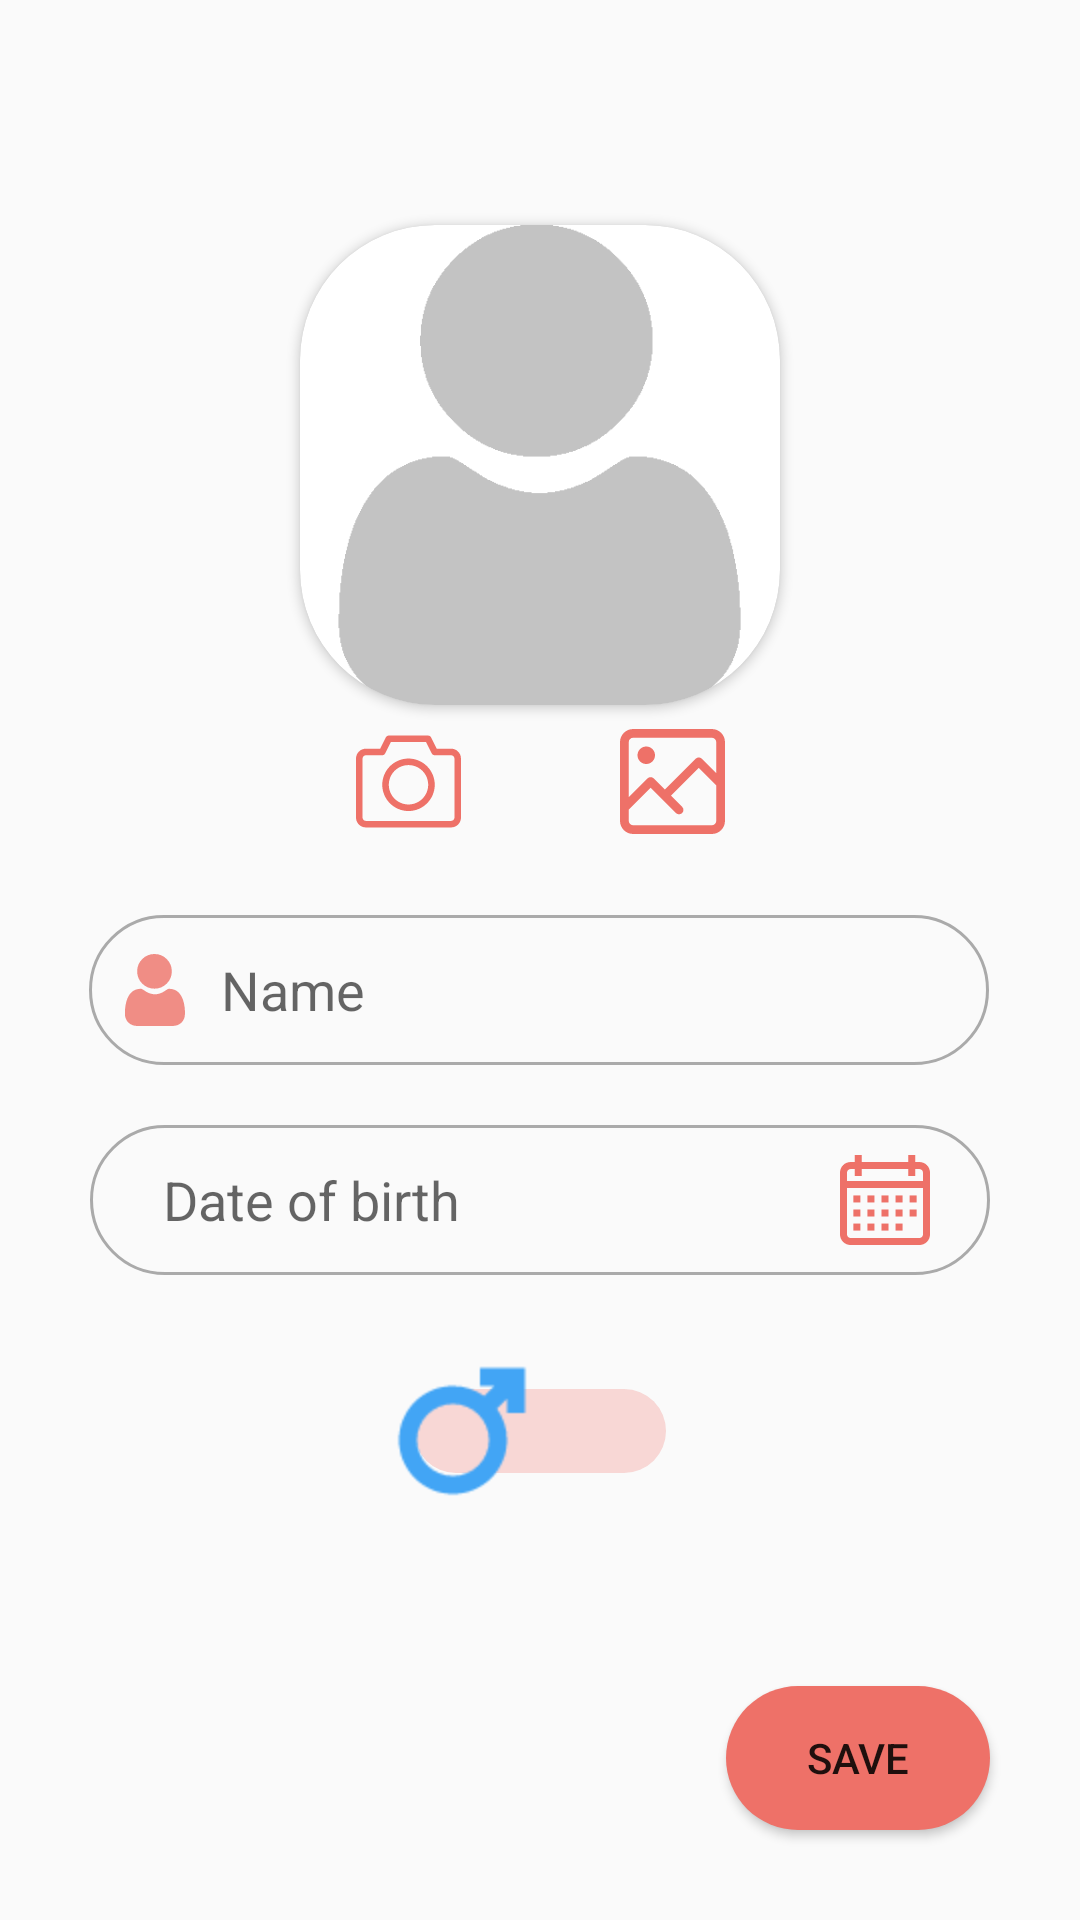

Named icons in this screenshot (1080w x 1920h) and their bounding boxes, [x1,y1,x2,y2]:
calendar: [840,1155,930,1245]
camera: [356,735,461,828]
gallery: [620,729,725,834]
